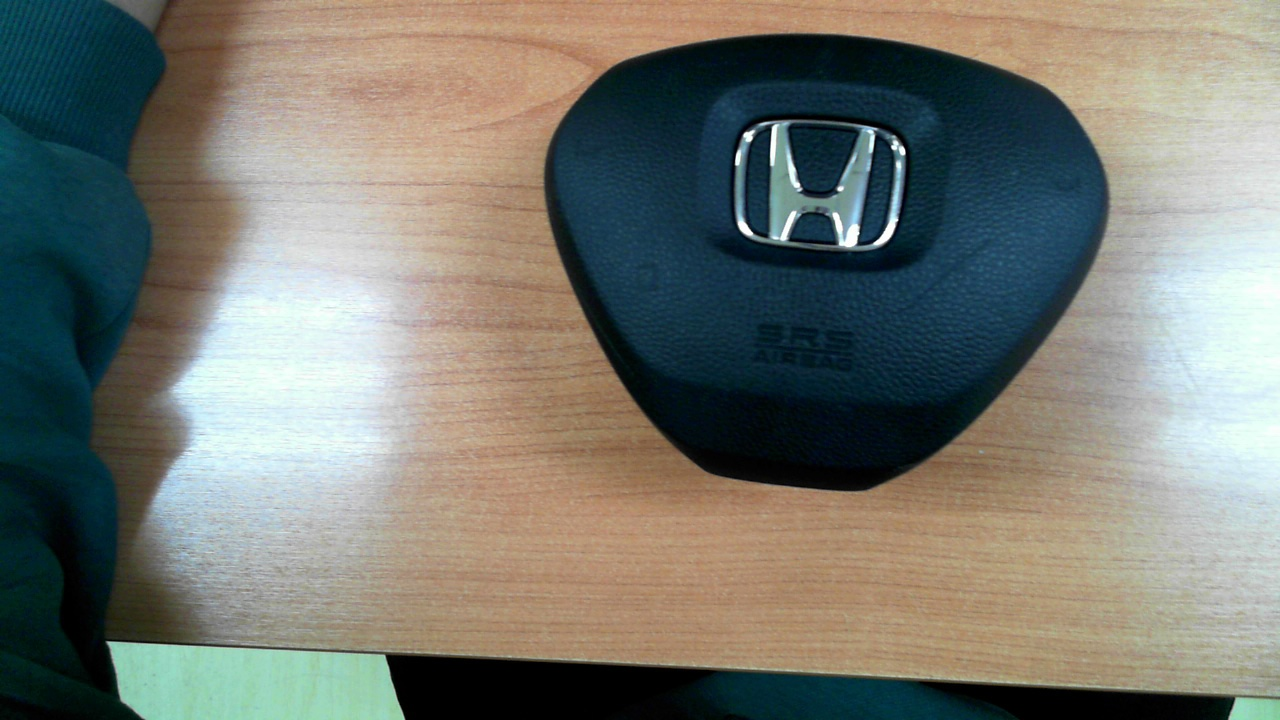Airbag: (544, 33, 1110, 492)
Honda: (733, 118, 907, 251)
